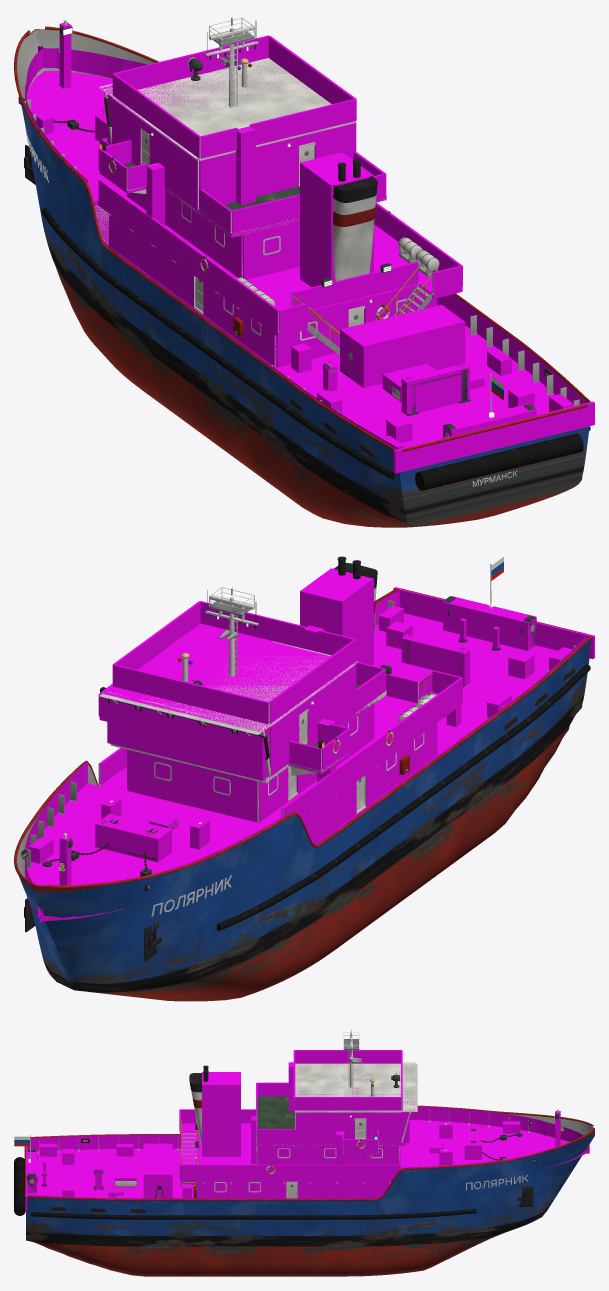
File: tug.glb
3 renders of one model, top to bottom at view 1: azimuth 30°, elevation 25°; view 2: azimuth 150°, elevation 25°; view 3: azimuth 270°, elevation 25°, orthographic. The views are drawn at different scales.
Parts seen in each view (by area): view 1: COL_boat, HULL, TRIM, BRIDGE, FUNNEL, OUTFIT, MAST, LAD_roof, LAD_wingport, STAIRS, DECK02; view 2: COL_boat, HULL, TRIM, BRIDGE, MAST, OUTFIT, DECK02, FUNNEL; view 3: COL_boat, HULL, TRIM, BRIDGE, DECK02, OUTFIT, FUNNEL, MAST.
Boxes of the visible parts, x1,y1,x2,y2 form: COL_boat: [25, 22, 594, 473]; HULL: [17, 29, 589, 527]; TRIM: [14, 26, 591, 490]; BRIDGE: [99, 58, 357, 209]; FUNNEL: [333, 159, 377, 281]; OUTFIT: [18, 20, 551, 437]; MAST: [100, 14, 494, 417]; LAD_roof: [236, 126, 255, 205]; LAD_wingport: [146, 162, 165, 225]; STAIRS: [294, 266, 432, 354]; DECK02: [123, 162, 385, 237]; COL_boat: [25, 568, 594, 922]; HULL: [17, 639, 590, 1001]; TRIM: [14, 588, 591, 961]; BRIDGE: [99, 641, 357, 775]; MAST: [100, 585, 494, 748]; OUTFIT: [21, 564, 536, 891]; DECK02: [110, 684, 386, 783]; FUNNEL: [334, 556, 377, 620]; COL_boat: [25, 1050, 589, 1211]; HULL: [26, 1113, 594, 1276]; TRIM: [14, 1105, 593, 1219]; BRIDGE: [295, 1062, 417, 1129]; DECK02: [257, 1096, 396, 1154]; OUTFIT: [27, 1095, 561, 1198]; FUNNEL: [189, 1065, 208, 1148]; MAST: [28, 1030, 377, 1162].
Size of the model in its own units: 12.18 by 19.26 by 43.9.
Materials: 46 (22 with a texture image).
